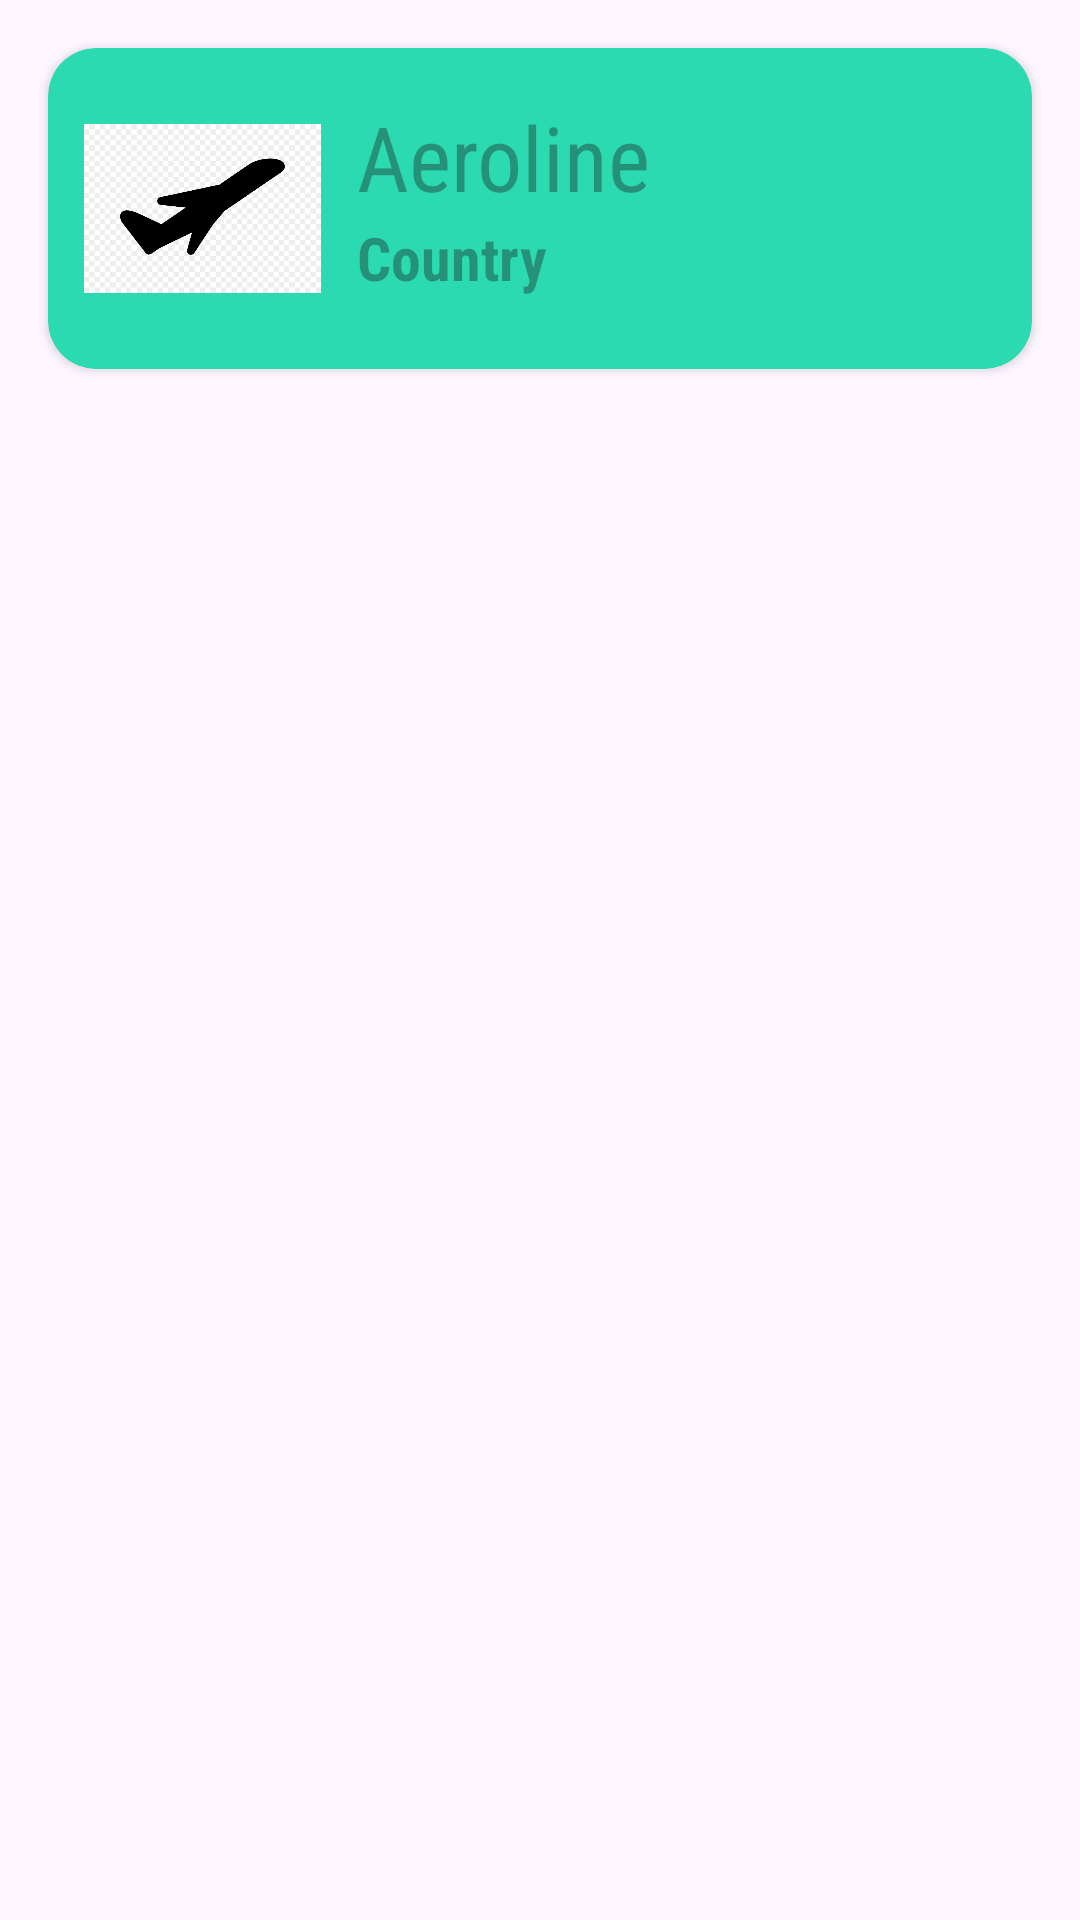

Named icons in this screenshot (1080×1920) and their bounding boxes, (x1, y1, x2, y2):
airplane: (84, 124, 321, 293)
